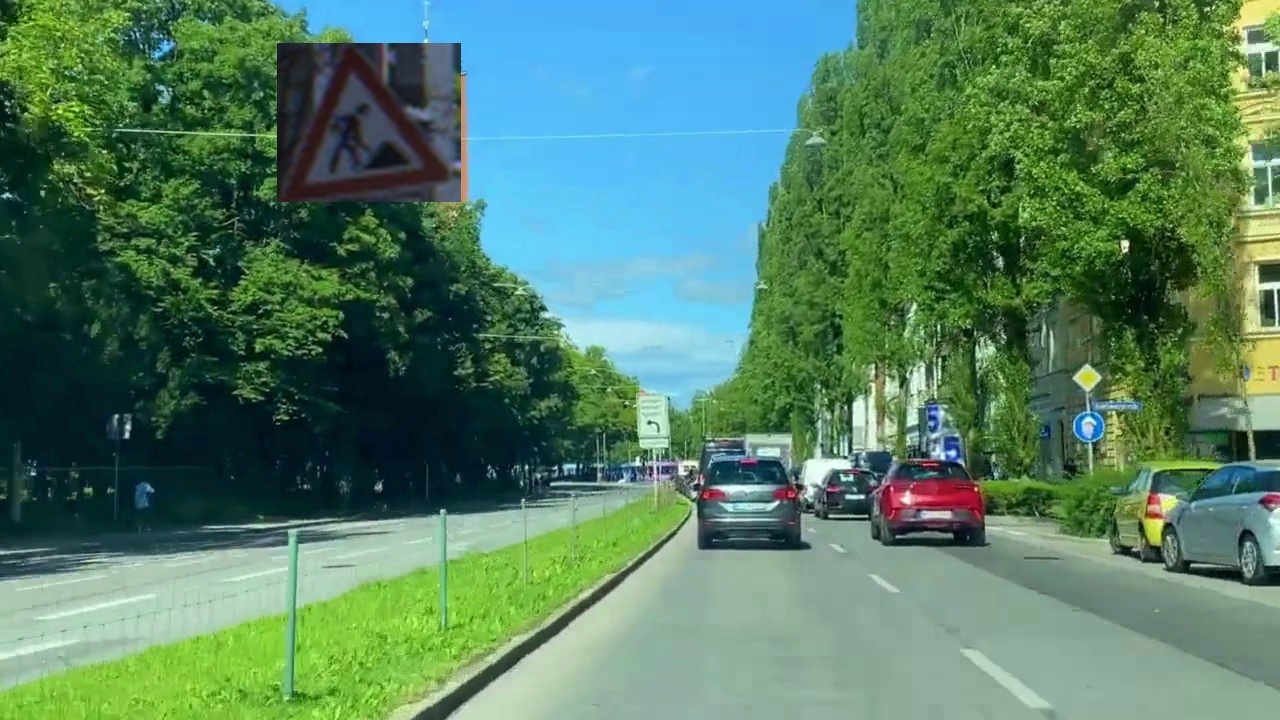Road work: (277, 43, 461, 202)
